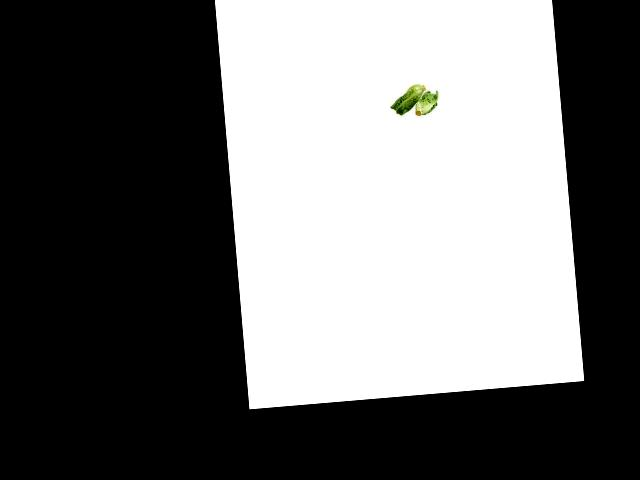lettuce: (411, 89, 441, 120)
